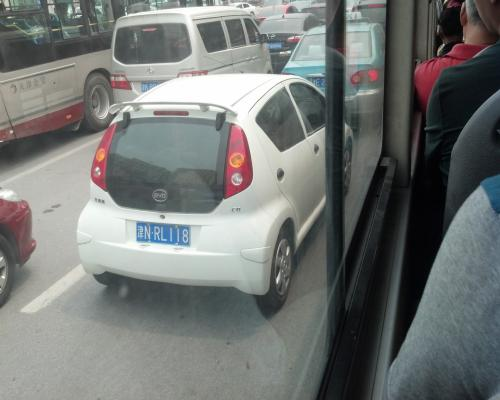Carplate: (128, 216, 198, 250)
